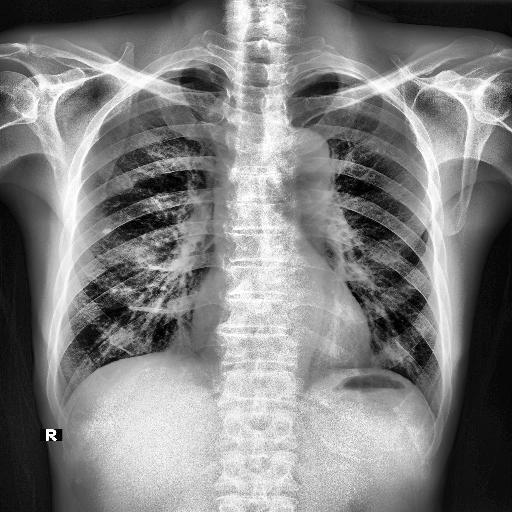0- Aortic enlargement: (256, 128, 330, 178), (260, 126, 329, 177)
11- Pleural thickening: (153, 58, 215, 74), (300, 66, 360, 79)
2- Calcification: (100, 226, 114, 235)
8- Nodule-Mass: (100, 226, 114, 235), (100, 228, 112, 234)
9- Other lesion: (102, 228, 112, 234)
